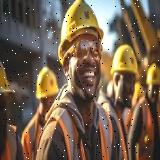Helmet: (59, 0, 104, 66), (110, 44, 138, 78), (36, 65, 60, 98), (0, 60, 16, 94), (145, 63, 160, 84), (132, 82, 144, 98)
Vest: (37, 103, 114, 160), (21, 107, 60, 160), (100, 100, 130, 160), (137, 96, 160, 160), (0, 123, 19, 160)
